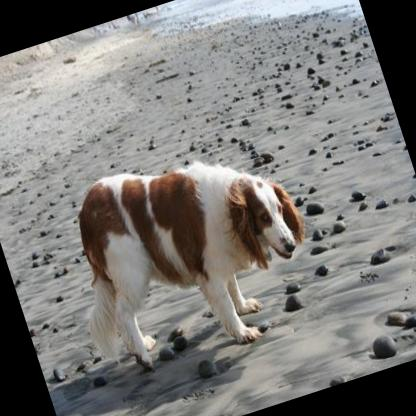Welsh_springer_spaniel: (41, 122, 334, 390)
